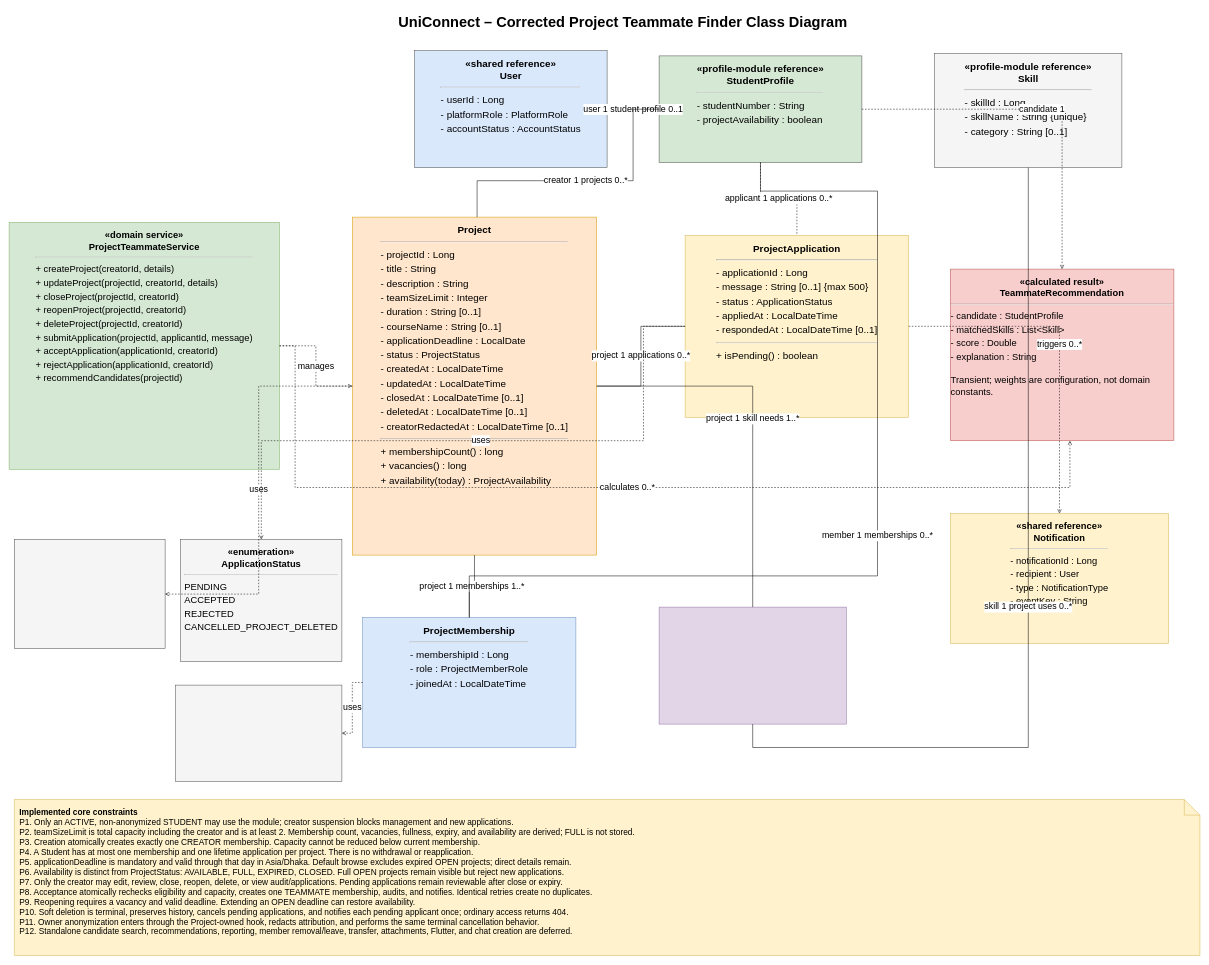
This 1209x965 diagram has some shape labels left out. Here are the shapes that lost their labels. From the top down, the box of each, then its label:
(14, 539, 165, 649): «enumeration» ProjectStatus OPEN CLOSED DELETED
(659, 607, 846, 724): ProjectSkill - projectSkillId : Long - required : boolean
(175, 685, 342, 781): «enumeration» ProjectMemberRole CREATOR TEAMMATE
